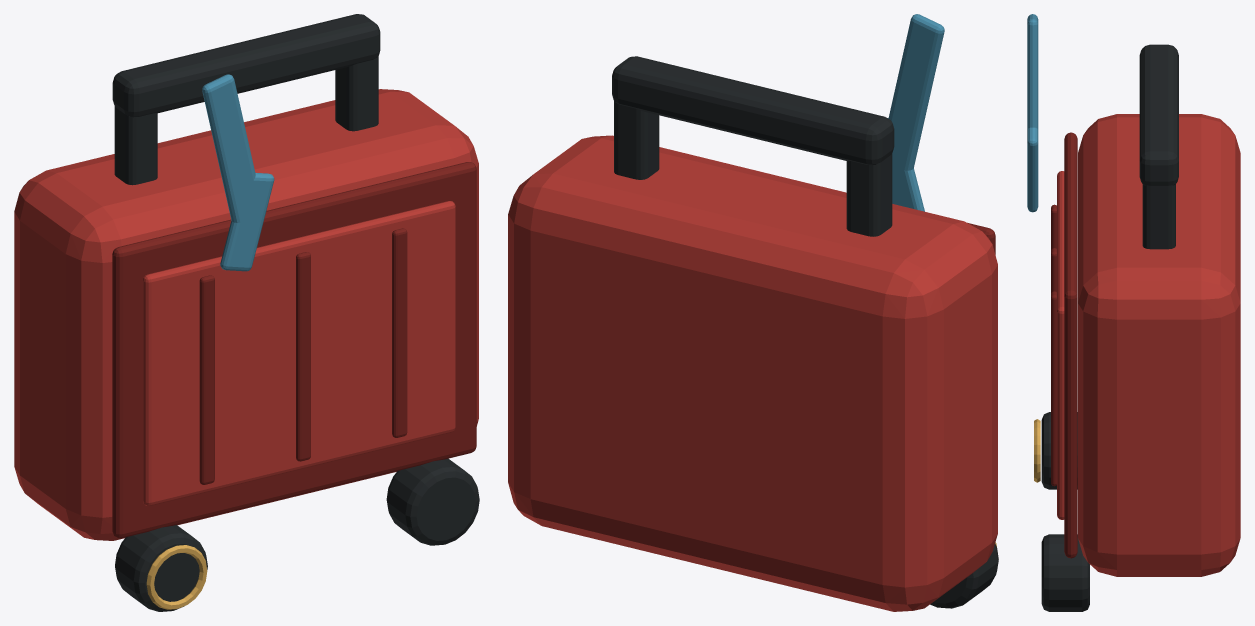
Rendered from suitcase-ribbon-v1-BxwgojNJ.glb.
3 renders of one model, left to right at view 1: azimuth 30°, elevation 25°; view 2: azimuth 150°, elevation 25°; view 3: azimuth 270°, elevation 25°, orthographic. The views are drawn at different scales.
Visible parts, largest first — view 1: Front inset, Rounded red shell, Case seam, Raised handle, Right wheel, Left wheel, Blue fabric ribbon, Shell ridge, Shell ridge.002, Shell ridge.001, Handle post, Handle post.001 (+2 smaller); view 2: Rounded red shell, Raised handle, Blue fabric ribbon, Handle post, Handle post.001, Left wheel, Ribbon folded tail; view 3: Rounded red shell, Case seam, Raised handle, Right wheel, Front inset, Handle post.001, Blue fabric ribbon, Shell ridge.002, Ribbon folded tail, Left wheel, Left wheel clue ring.
Part boxes in pixels (x1,y1,x2,y2): Front inset: (143, 201, 455, 506); Rounded red shell: (14, 89, 478, 540); Case seam: (112, 162, 476, 538); Raised handle: (112, 14, 380, 117); Right wheel: (386, 458, 479, 545); Left wheel: (115, 525, 207, 611); Blue fabric ribbon: (202, 74, 261, 224); Shell ridge: (199, 275, 214, 484); Shell ridge.002: (392, 228, 407, 437); Shell ridge.001: (296, 252, 310, 461); Handle post: (114, 106, 157, 185); Handle post.001: (335, 56, 378, 131); Rounded red shell: (508, 135, 997, 611); Raised handle: (612, 56, 894, 165); Blue fabric ribbon: (888, 14, 944, 172); Handle post: (846, 153, 892, 236); Handle post.001: (614, 101, 659, 179); Left wheel: (930, 543, 998, 608); Ribbon folded tail: (888, 118, 924, 211); Rounded red shell: (1078, 114, 1240, 576); Case seam: (1064, 132, 1077, 558); Raised handle: (1139, 44, 1178, 185); Right wheel: (1041, 534, 1089, 611); Front inset: (1057, 171, 1064, 519); Handle post.001: (1142, 184, 1175, 249); Blue fabric ribbon: (1027, 14, 1038, 128); Shell ridge.002: (1051, 291, 1056, 486); Ribbon folded tail: (1027, 127, 1038, 212); Left wheel: (1041, 412, 1077, 489); Left wheel clue ring: (1034, 419, 1040, 482).
Size of the model in its own units: 1.44 by 1.79 by 0.708.
